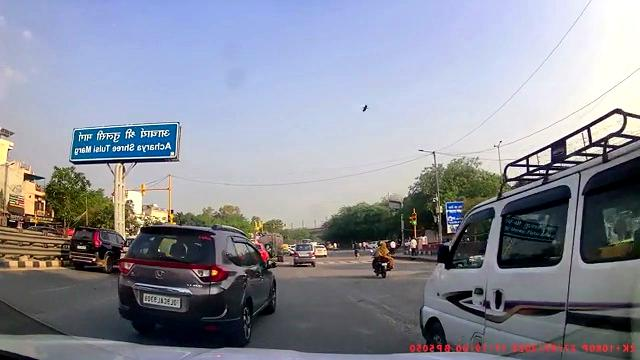passenger_with_helmet: (371, 239, 395, 278)
